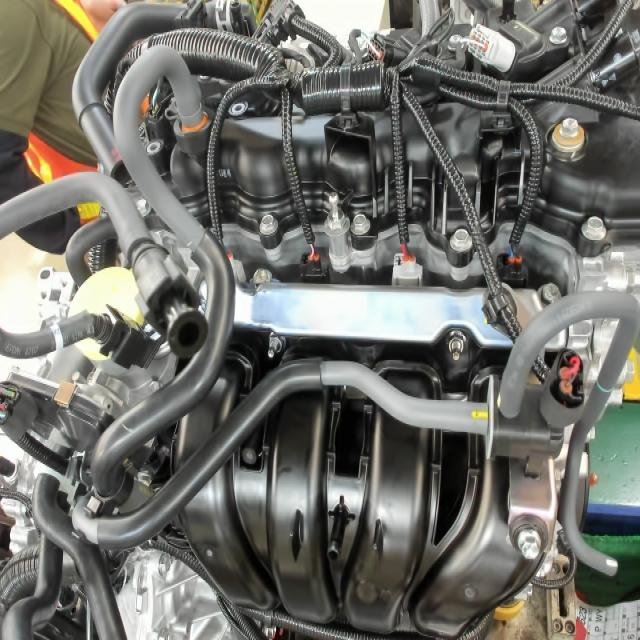Hose Canister-HJ: (591, 373, 615, 402)
Tube Sub Assy Fuel-W: (44, 321, 69, 354)
